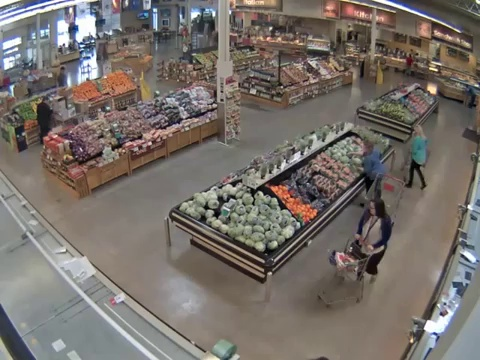face: (369, 204, 379, 218)
